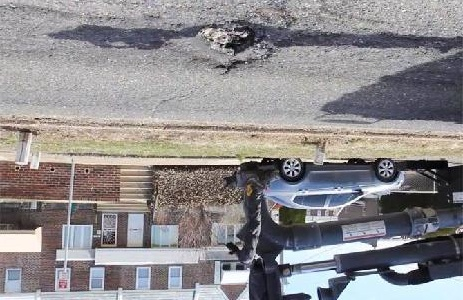pothole: (186, 16, 279, 73)
